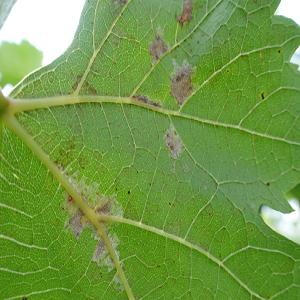Folha: (1, 0, 299, 299)
Fungo: (56, 163, 120, 272), (87, 196, 120, 272), (92, 230, 120, 272), (169, 58, 193, 106), (68, 194, 88, 240), (163, 124, 183, 160), (148, 33, 168, 66), (71, 72, 97, 94), (175, 0, 193, 28), (132, 92, 162, 108), (72, 75, 81, 91), (113, 0, 127, 6), (182, 163, 188, 174), (260, 90, 264, 100), (68, 194, 72, 201), (21, 295, 27, 299)
